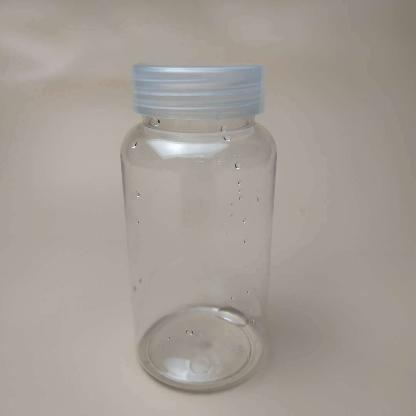Plastic Bottle: (119, 63, 276, 393)
